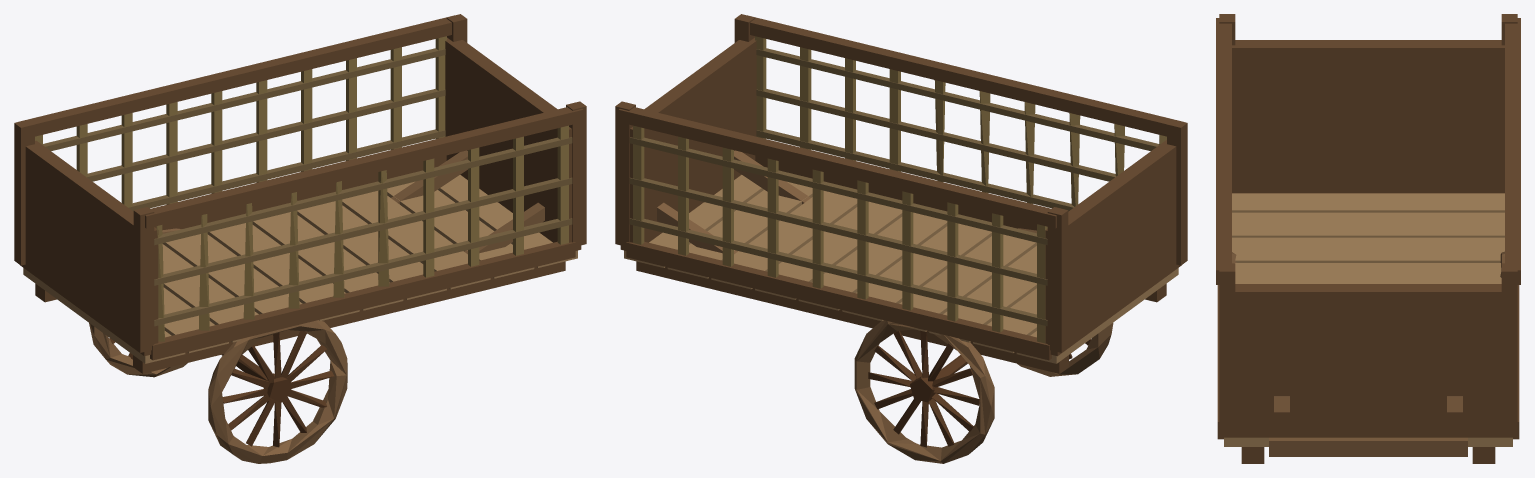
Rendered from lib_lib_prop_cart.vc2.glb.
The picture shows the model from 3 angles, left to right: view 1: azimuth 30°, elevation 25°; view 2: azimuth 150°, elevation 25°; view 3: azimuth 270°, elevation 25°; orthographic projection. The views are drawn at different scales.
Parts seen in each view (by area): view 1: lib_lib_prop_cart; view 2: lib_lib_prop_cart; view 3: lib_lib_prop_cart.
Part boxes in pixels (x1=…): lib_lib_prop_cart: x1=14, y1=14, x2=586, y2=463; lib_lib_prop_cart: x1=615, y1=14, x2=1187, y2=463; lib_lib_prop_cart: x1=1216, y1=14, x2=1520, y2=463.
Bounding box in the file's own units: 1.91 × 1.15 × 0.95.
